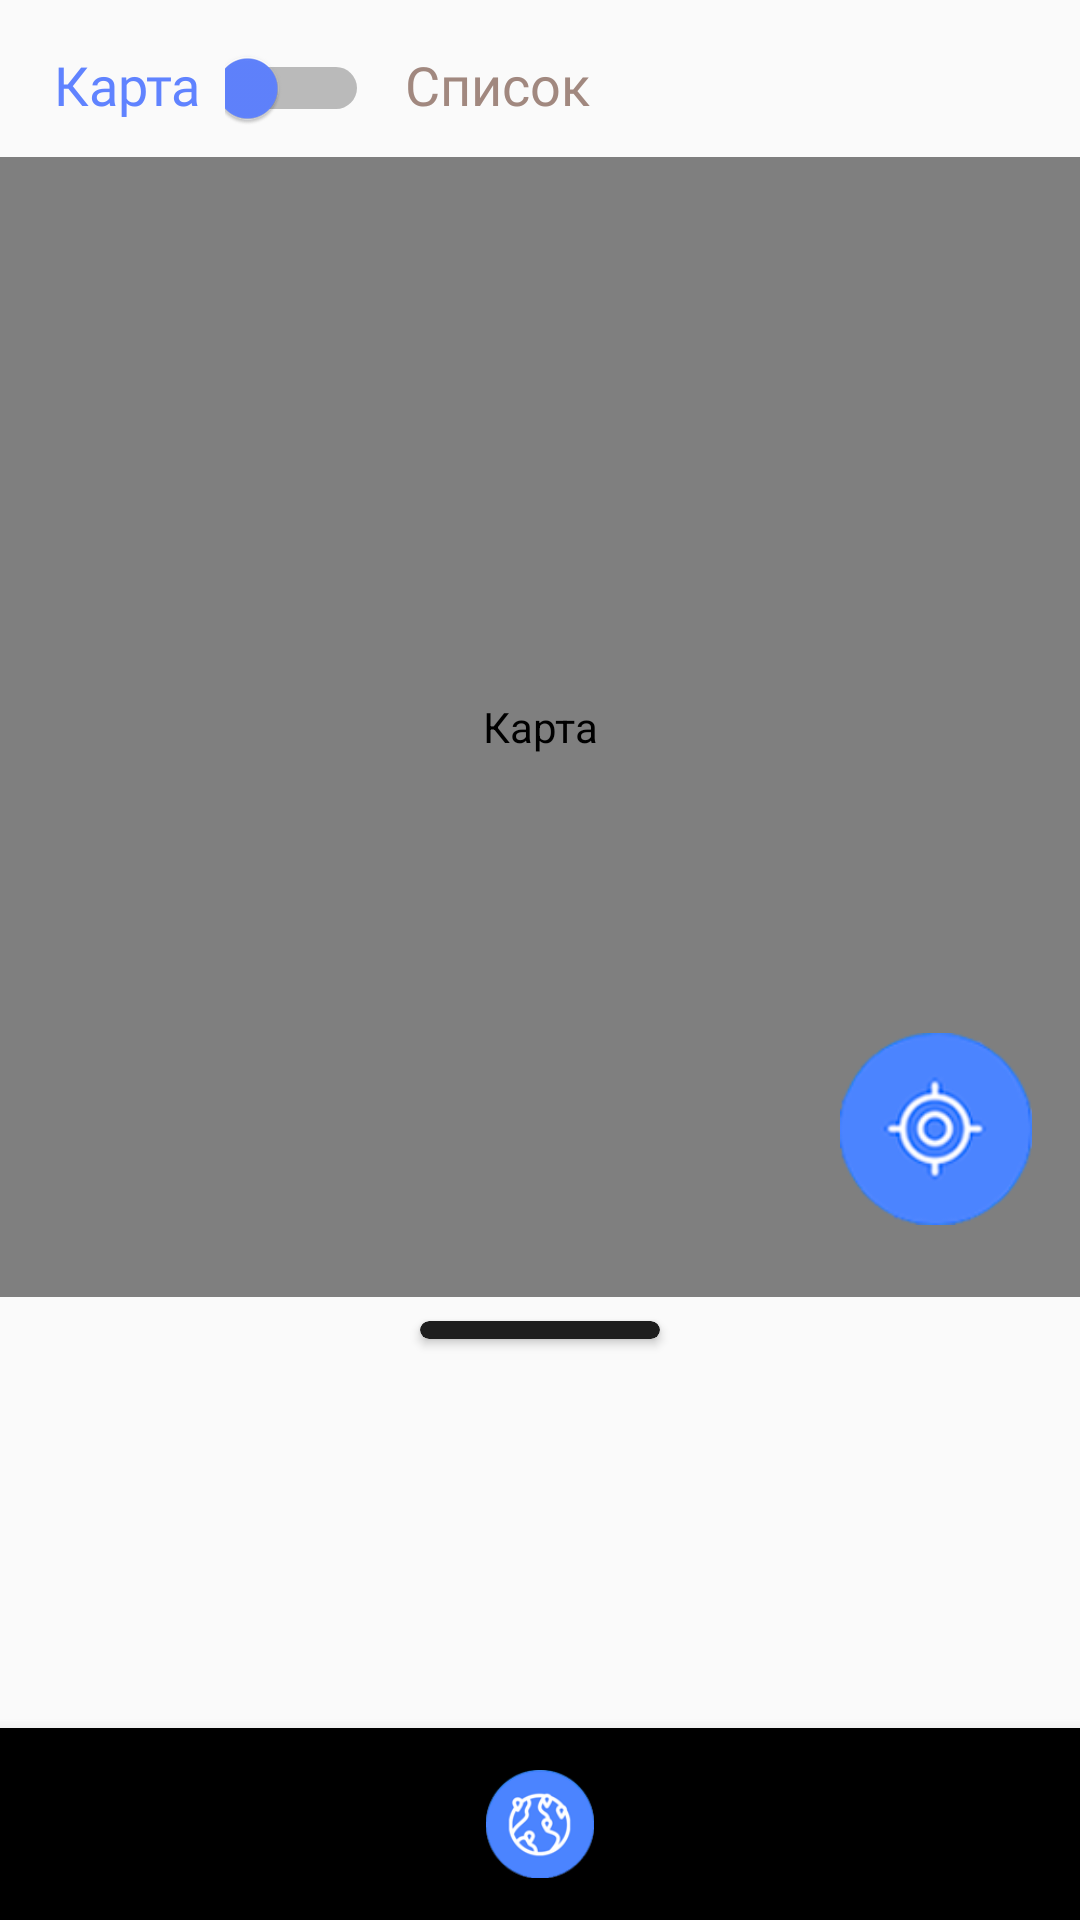

Named icons in this screenshot (1080w x 1920h) and their bounding boxes, [x1,y1,x2,y2]:
Карты: [486,1770,594,1878]
Моё местоположение: [840,1033,1032,1225]
